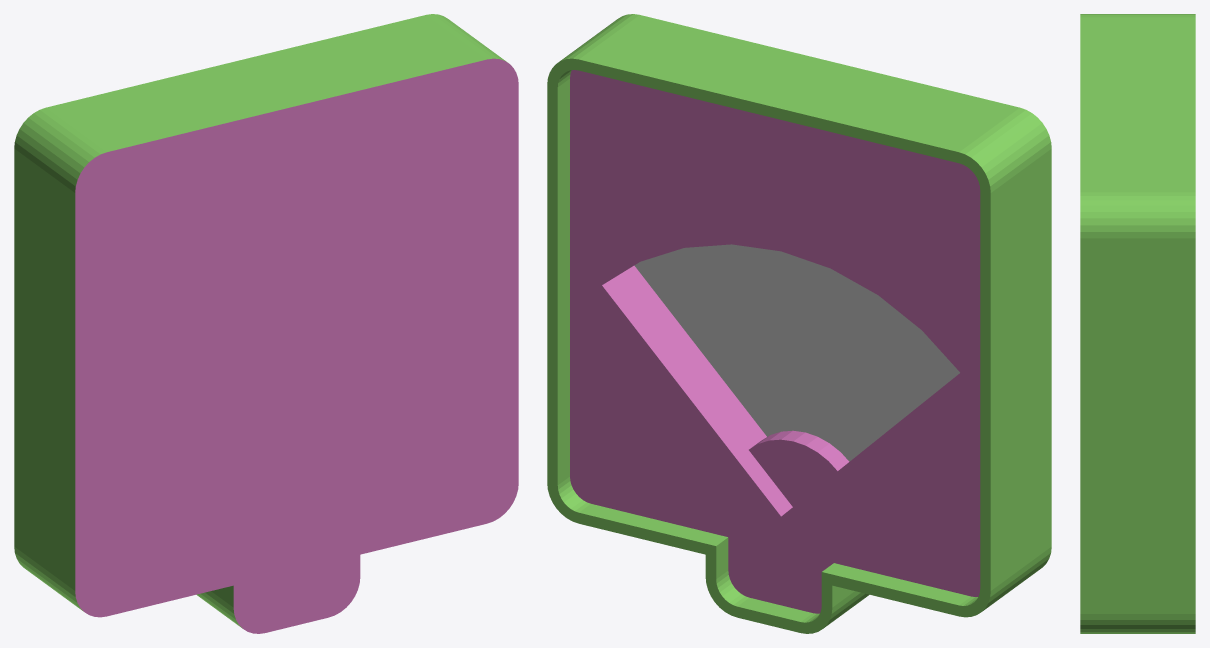
Rendered from scale-housing-FBX.fbx.
3 renders of one model, left to right at view 1: azimuth 30°, elevation 25°; view 2: azimuth 150°, elevation 25°; view 3: azimuth 270°, elevation 25°, orthographic. The views are drawn at different scales.
Visible parts, largest first — view 1: Scale-body; view 2: Scale-body; view 3: Scale-body.
Boxes of the visible parts, bbox=[...] form: Scale-body: bbox=[14, 14, 518, 633]; Scale-body: bbox=[547, 14, 1051, 633]; Scale-body: bbox=[1080, 14, 1195, 633].
Bounding box in the file's own units: 23100 × 25850 × 5500.
